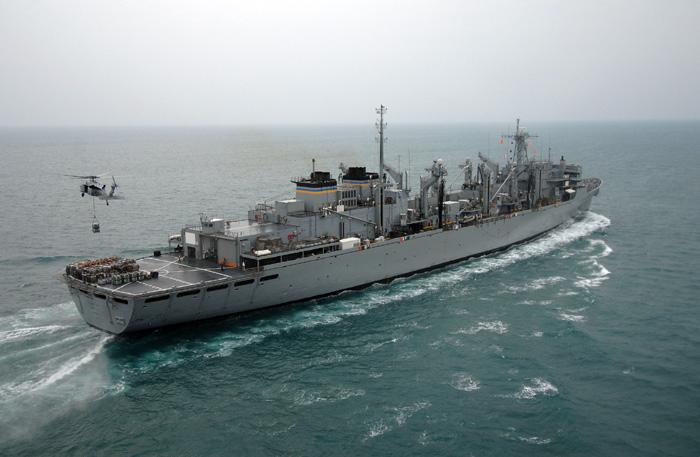Cargoship: (68, 103, 600, 344)
airplane: (70, 169, 129, 238)
